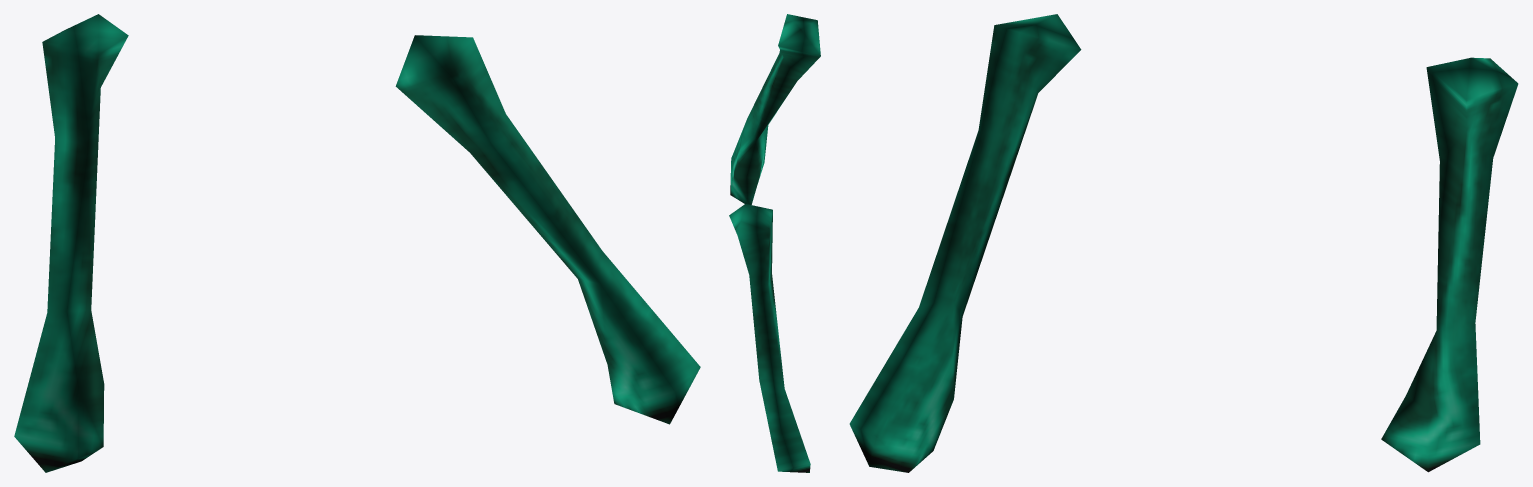
File: VIFS09.obj
3 views of the same model, side by side, from view 1: azimuth 30°, elevation 25°; view 2: azimuth 150°, elevation 25°; view 3: azimuth 270°, elevation 25° (orthographic). The views are drawn at different scales.
Parts seen in each view (by area): view 1: VIFS09; view 2: VIFS09; view 3: VIFS09.
Part boxes in pixels (x1=…): VIFS09: x1=14, y1=14, x2=700, y2=472; VIFS09: x1=729, y1=14, x2=820, y2=472; VIFS09: x1=849, y1=14, x2=1518, y2=472.
Size of the model in its own units: 14.63 by 18.02 by 20.39.
